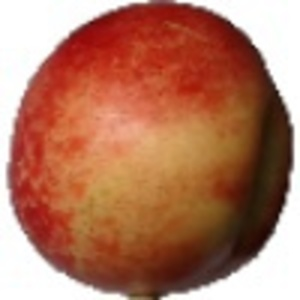nectarina: (5, 1, 300, 300)
